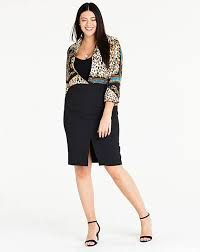F_tailored skirt: (57, 77, 125, 168)
